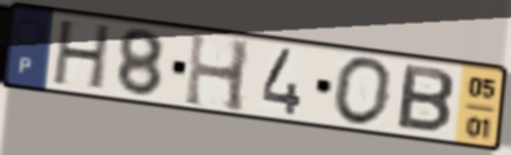4: (260, 46, 304, 118)
8: (113, 26, 168, 100)
B: (393, 61, 458, 136)
H: (181, 30, 254, 116), (49, 18, 115, 93)
O: (331, 54, 396, 129)
